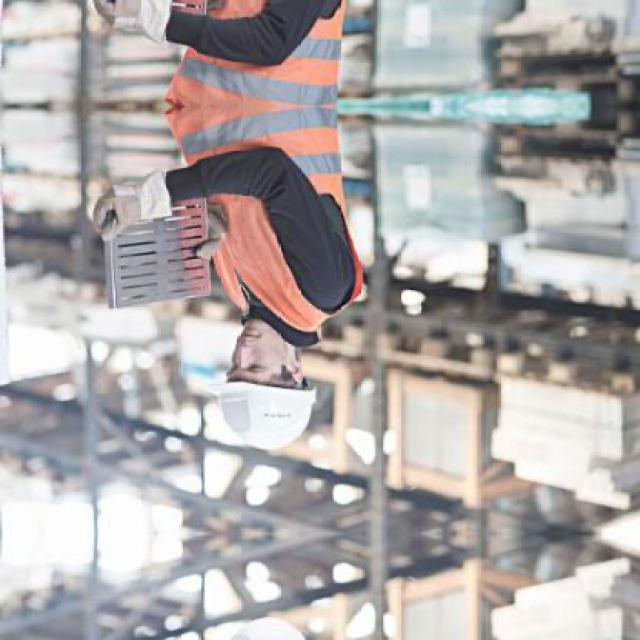con casco: (182, 253, 324, 456)
